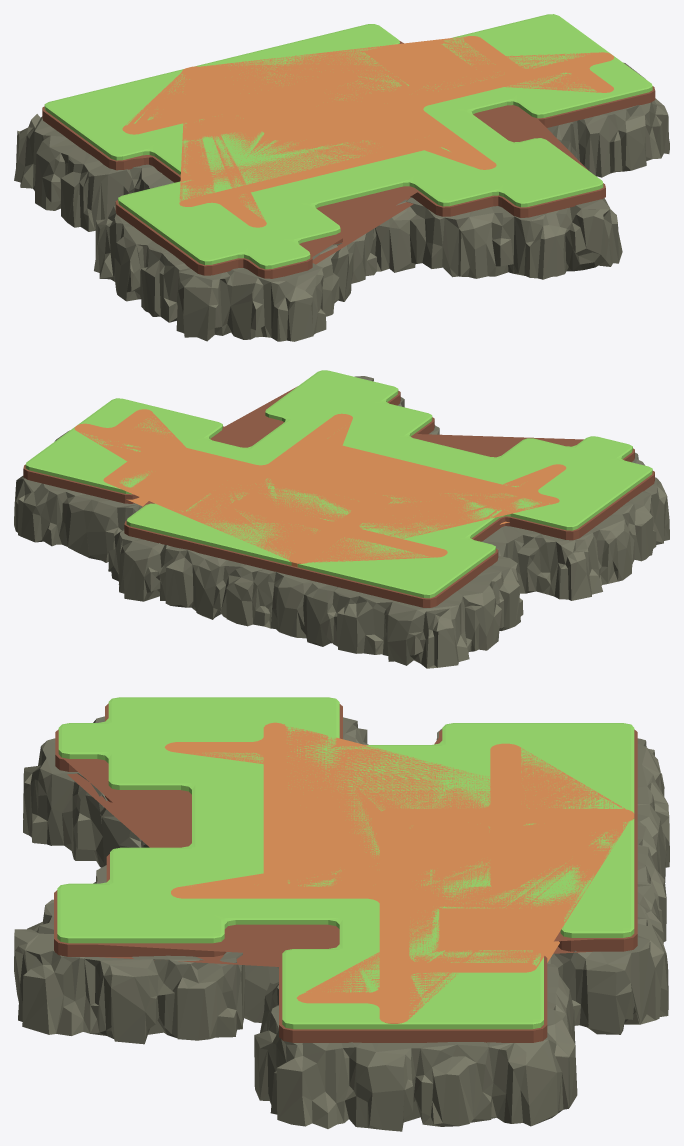
File: Island.fbx
3 views of the same model, one above another, from view 1: azimuth 30°, elevation 25°; view 2: azimuth 150°, elevation 25°; view 3: azimuth 270°, elevation 25° (orthographic). The views are drawn at different scales.
Visible parts, largest first — view 1: ada1zemin, ada1kayalar; view 2: ada1zemin, ada1kayalar; view 3: ada1zemin, ada1kayalar.
Boxes of the visible parts, left/top/right/bottom form: ada1zemin: left=42, top=14, right=655, bottom=278; ada1kayalar: left=14, top=62, right=669, bottom=341; ada1zemin: left=23, top=370, right=654, bottom=607; ada1kayalar: left=14, top=376, right=669, bottom=668; ada1zemin: left=54, top=697, right=637, bottom=1042; ada1kayalar: left=14, top=716, right=669, bottom=1131.
Bounding box in the file's own units: 36804 × 4559 × 28346.
